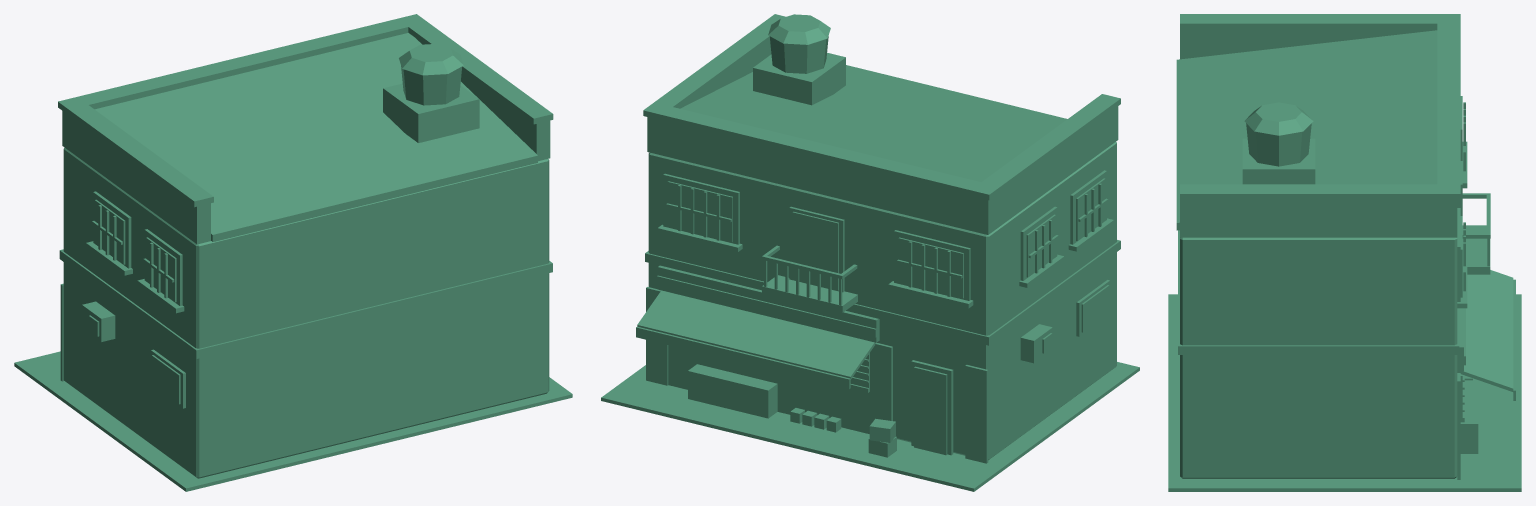
3 views of the same model, side by side, from view 1: azimuth 30°, elevation 25°; view 2: azimuth 150°, elevation 25°; view 3: azimuth 270°, elevation 25° (orthographic). The views are drawn at different scales.
Parts seen in each view (by area): view 1: corpo; view 2: corpo; view 3: corpo.
Part boxes in pixels (x1,y1,x2,y2): corpo: (14, 14, 572, 491); corpo: (601, 14, 1139, 491); corpo: (1168, 14, 1521, 491).
Bounding box in the file's own units: 1.39 × 1.12 × 1.07.
